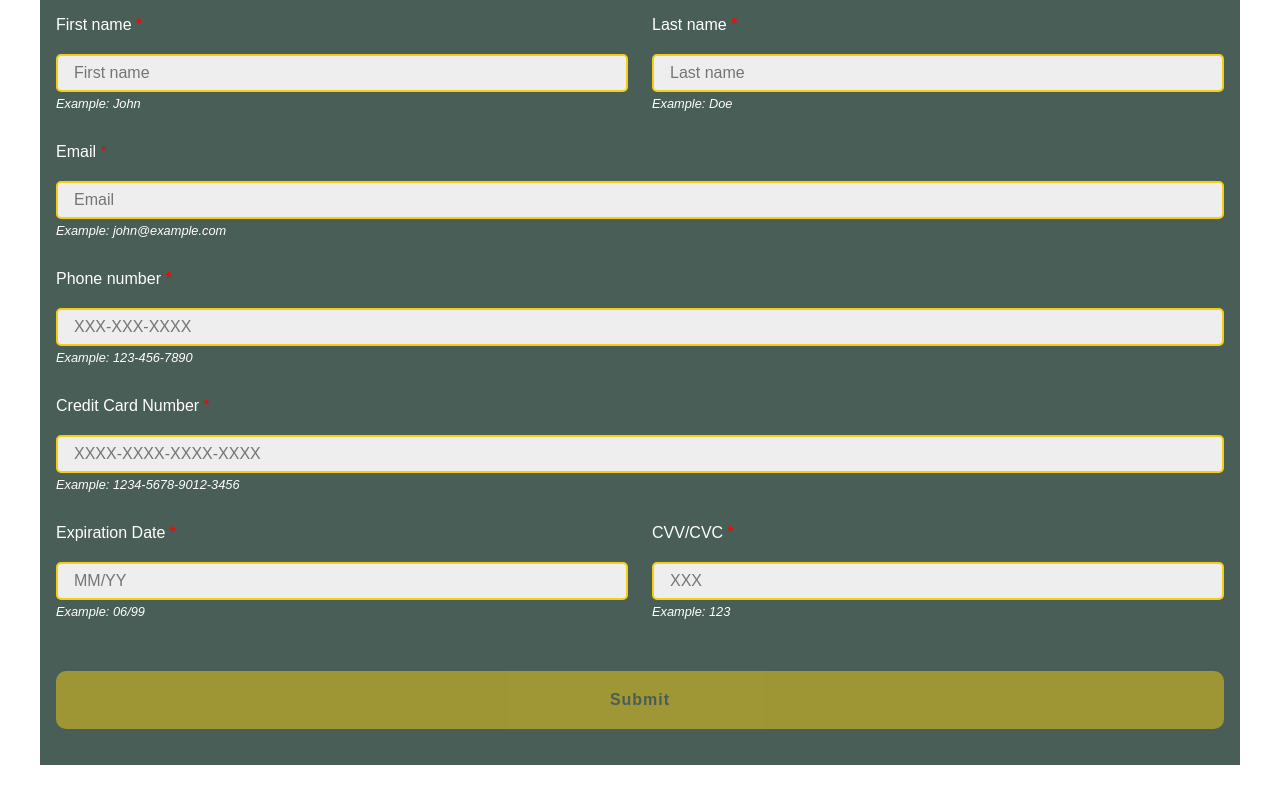
Test case: PersonalDetailsForm › should show 'Required' message when input is clicked and then clicked outside
Note: Simulate clicking on the 'First name' input
Focus the field labelled "First name *" at (342, 73), box [56,54,628,92]
Expected: the text "Required" is not shown
Note: Simulate clicking outside the input
Leave the field labelled "First name *", box [56,54,628,92]
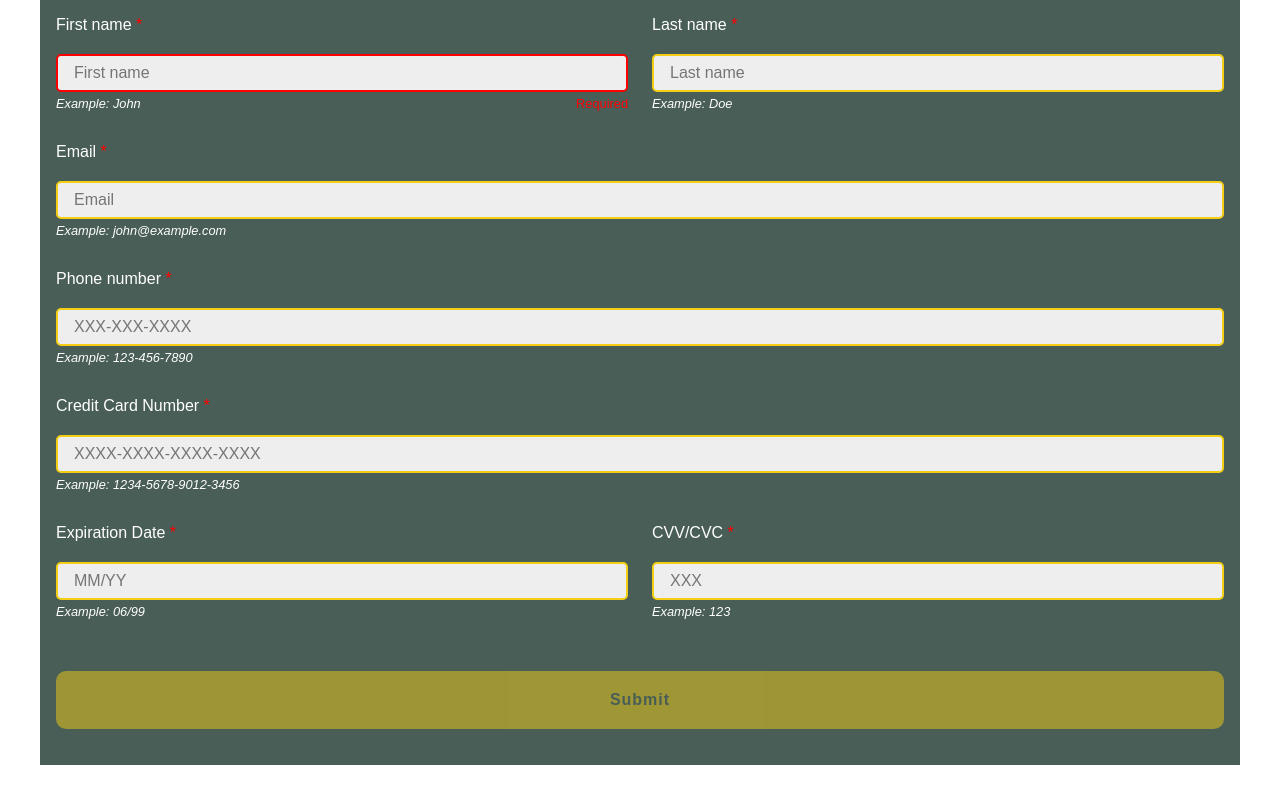
Expected: the text "Required" is shown, [576,96,628,111]
